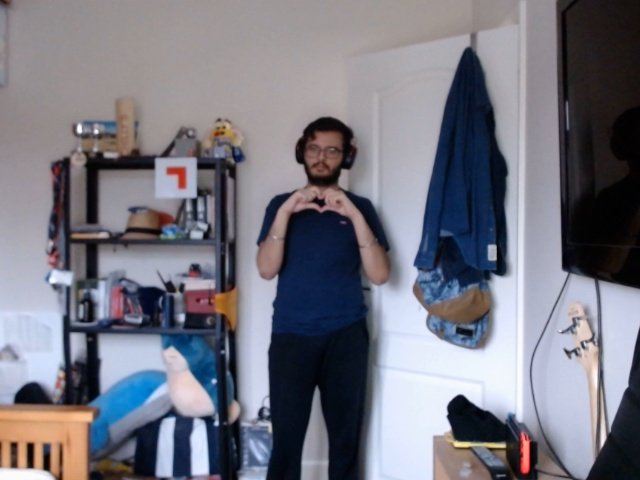Heart: (299, 184, 345, 219)
